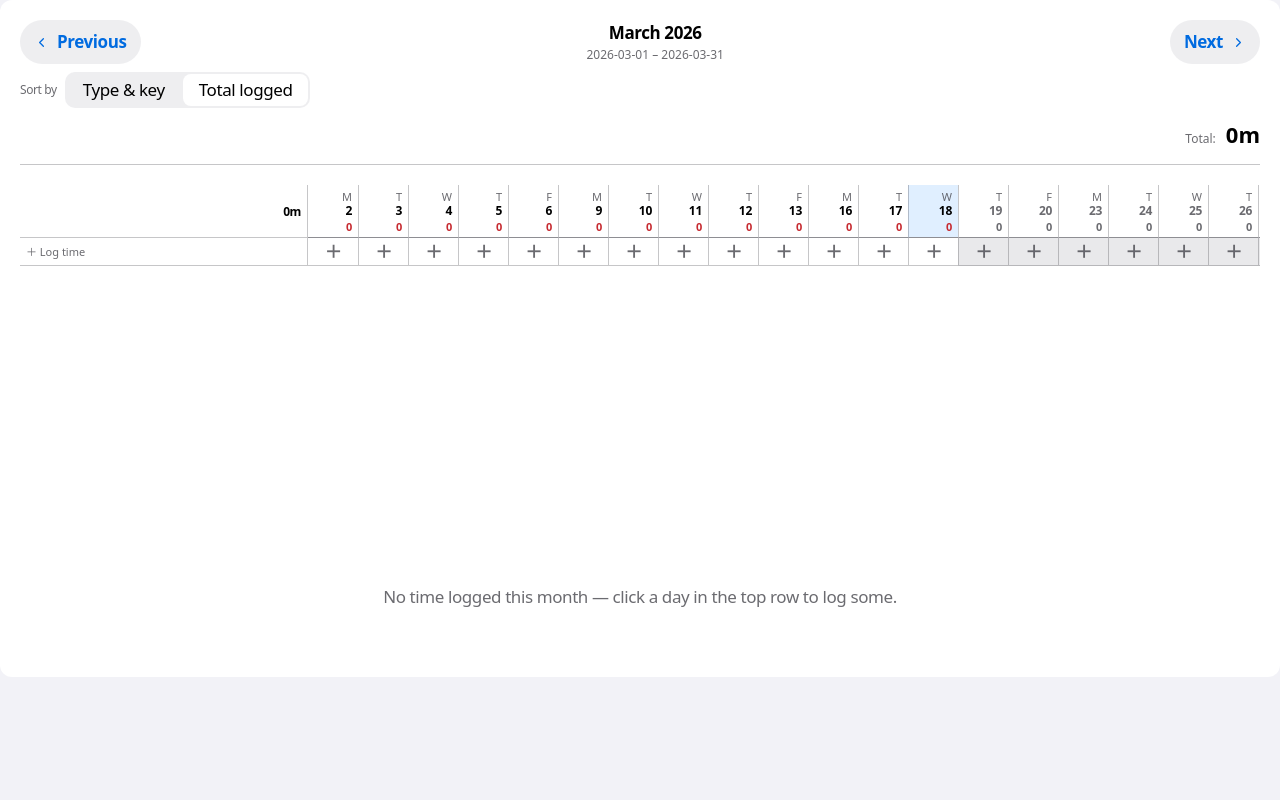
Scenario: rebuilding a day › opens from a past day's header, and not from one still to come
This screenshot has width=1280, height=800.
Click the button "T 10 0": (634, 212) [615,190,652,234]
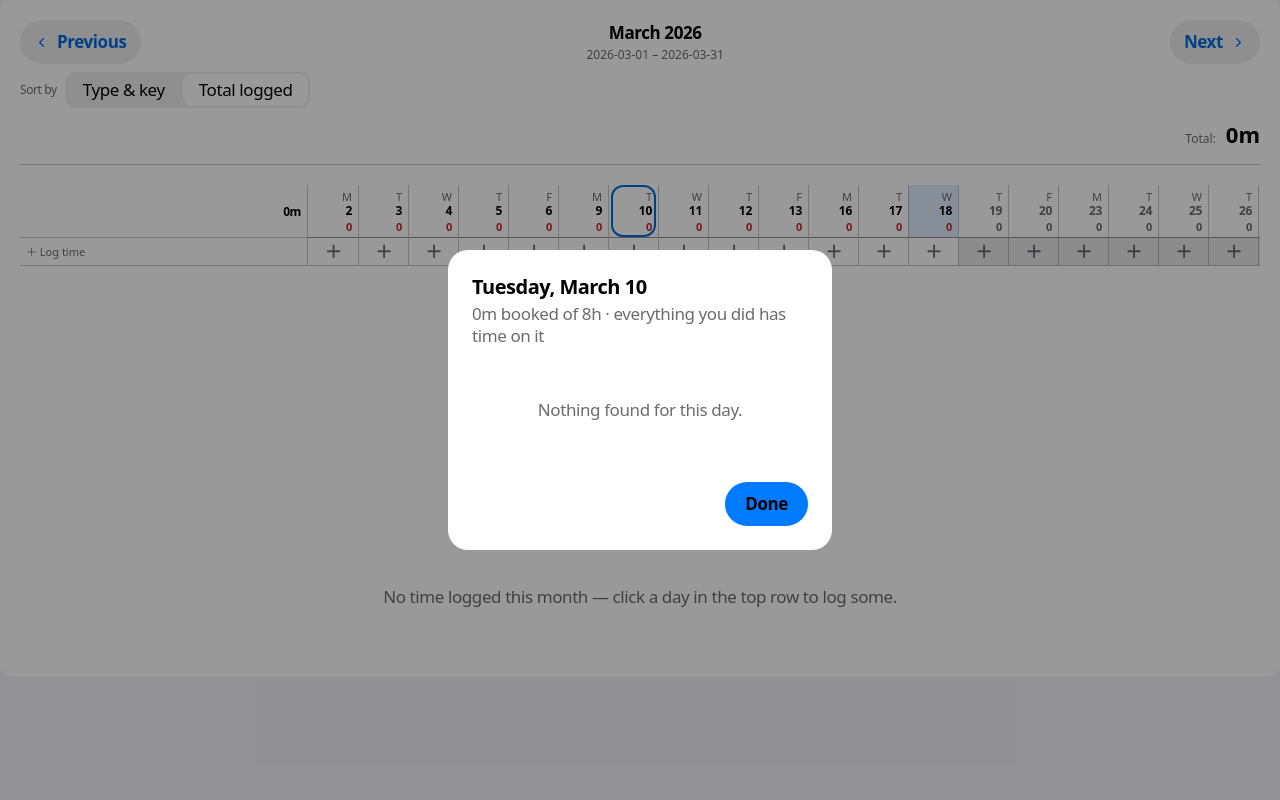
Check: the dialog named "Rebuild the day" is shown, box [448,250,832,550]
